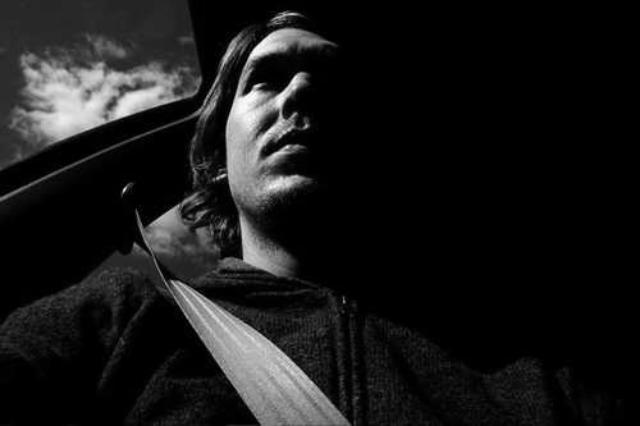Seatbelt: (117, 178, 357, 426)
